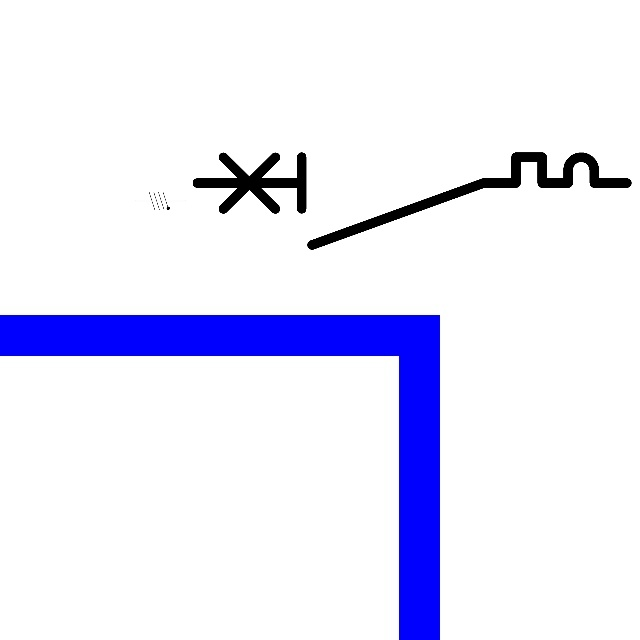interruptor_termomagnetico: (186, 146, 637, 256)
